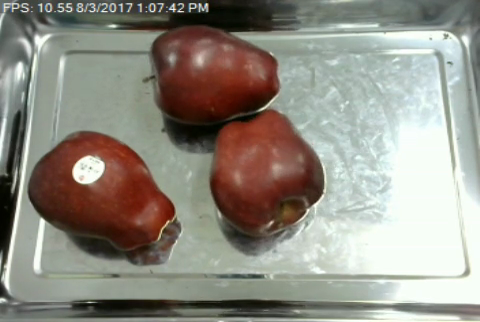Apple: (26, 128, 179, 254), (207, 107, 329, 240), (142, 23, 283, 129)
